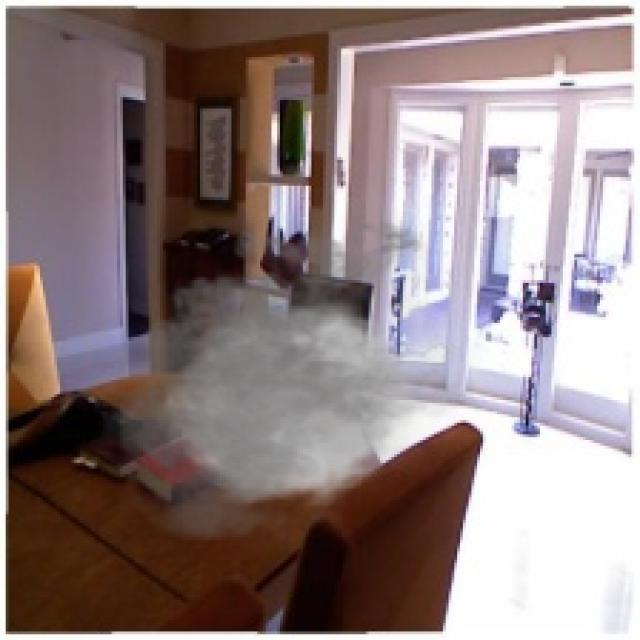Smoke: (89, 208, 488, 554)
